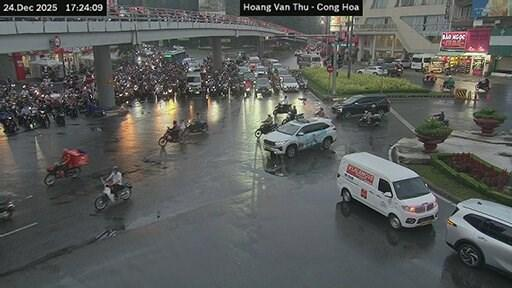motorbike: (44, 148, 88, 184), (44, 162, 80, 184), (157, 126, 185, 144), (93, 178, 108, 210), (112, 181, 131, 198), (255, 122, 277, 136), (0, 196, 13, 219), (359, 112, 380, 126), (185, 120, 207, 133), (281, 112, 303, 124), (272, 103, 291, 115), (86, 104, 105, 116), (3, 116, 16, 133), (22, 113, 35, 129), (38, 109, 50, 126), (53, 109, 64, 125), (432, 116, 448, 126), (474, 80, 489, 90), (295, 76, 306, 89), (68, 104, 77, 117), (422, 76, 434, 85), (441, 83, 454, 91), (63, 154, 64, 157)
